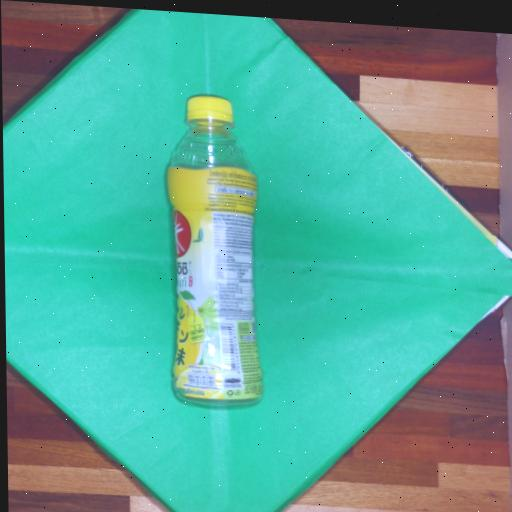bottle: (164, 91, 258, 411)
